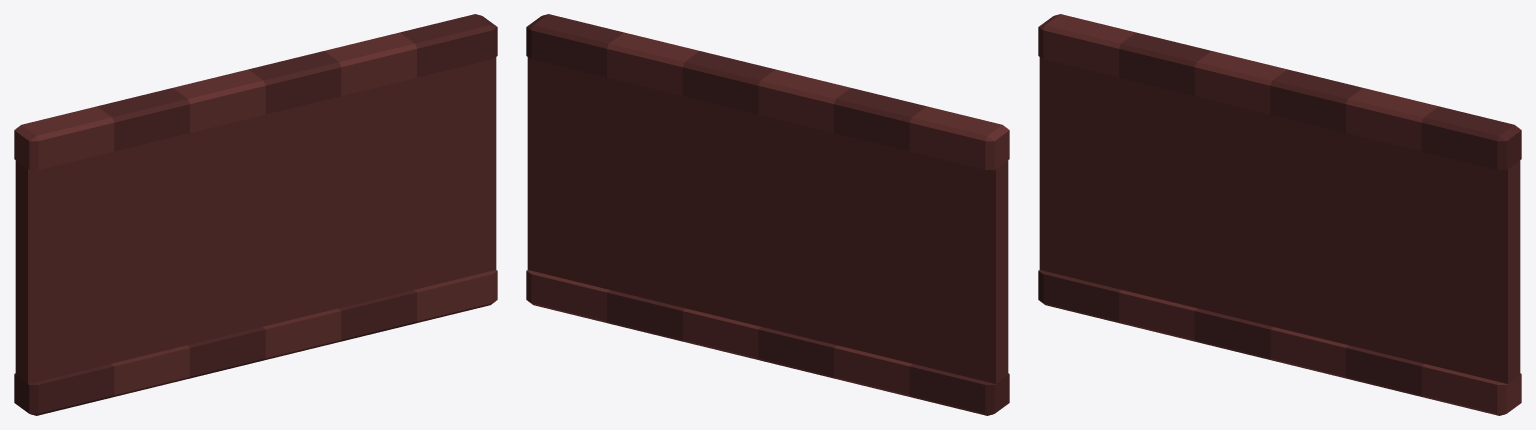
Rendered from Wall_6_Red.fbx.
3 renders of one model, left to right at view 1: azimuth 30°, elevation 25°; view 2: azimuth 150°, elevation 25°; view 3: azimuth 330°, elevation 25°, orthographic.
Visible parts, largest first — view 1: Wall_6_Red; view 2: Wall_6_Red; view 3: Wall_6_Red.
Part boxes in pixels (box(x1,y1,x2,y2)): Wall_6_Red: box(14, 14, 497, 415); Wall_6_Red: box(526, 14, 1009, 415); Wall_6_Red: box(1038, 14, 1521, 415).
Size of the model in its own units: 700 by 400 by 50.
